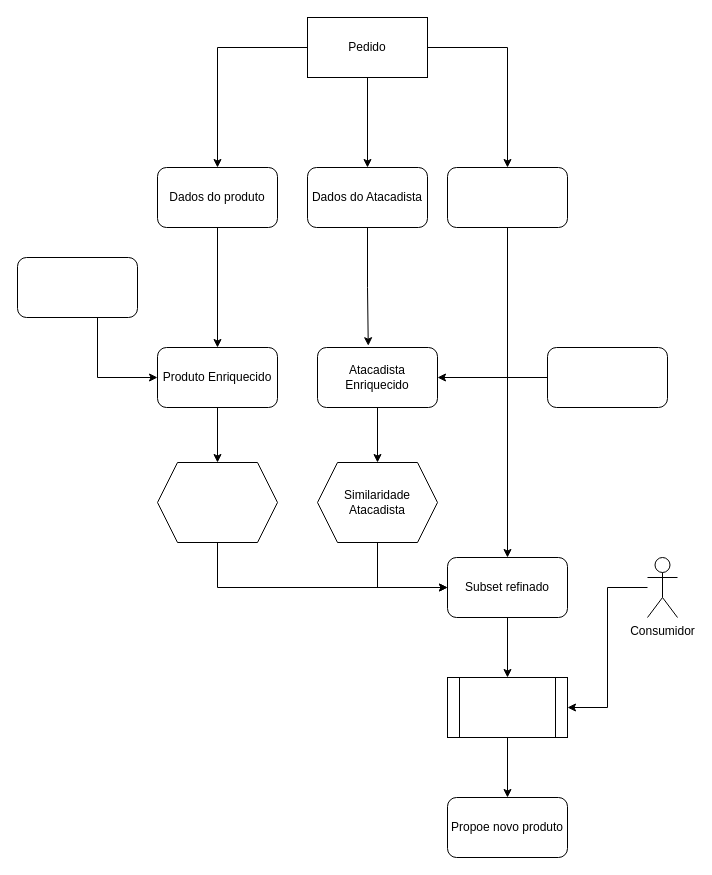
Some shapes in this 712 by 875 pixel diagram are drawn without their labels. Here are the shapes that lost their labels. From the top down, the centre of each, then its label:
At point (507, 197): "Dados da Compra".
At point (77, 287): "Caracterisca dos produos".
At point (607, 377): "Dados de localizacao".
At point (217, 502): "Similaridade Produto".
At point (507, 707): "Valida caracteristica/ comportamento".
